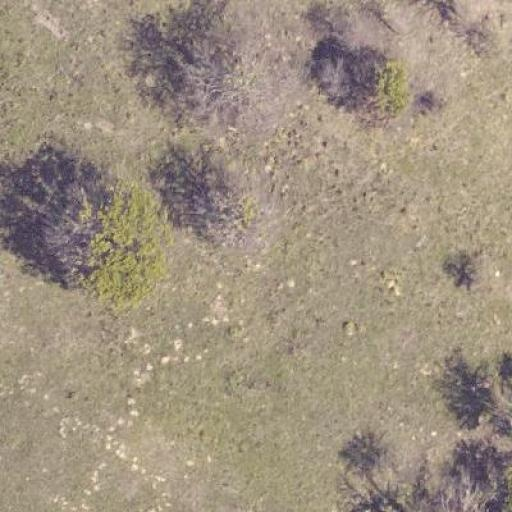tree-top: (44, 178, 168, 299), (172, 27, 296, 139), (178, 144, 290, 254), (337, 40, 431, 132), (423, 469, 510, 512), (443, 238, 499, 296)
